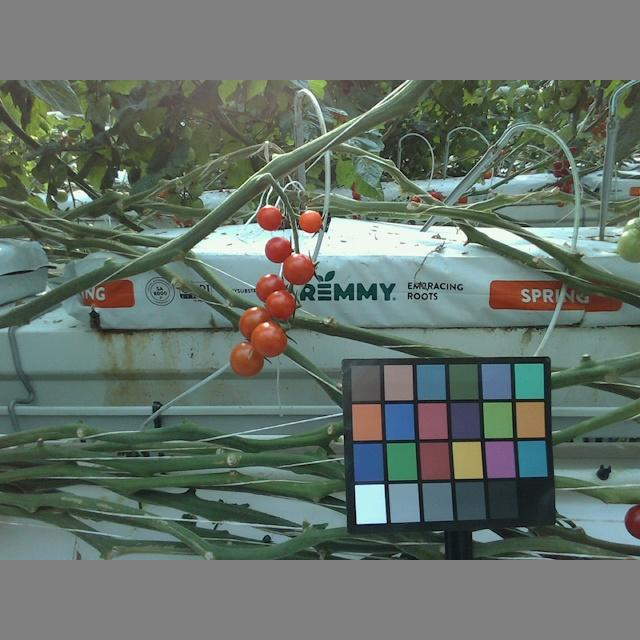green: (617, 227, 640, 267)
red: (250, 319, 287, 357), (238, 307, 275, 343), (231, 342, 266, 376), (284, 250, 315, 288), (264, 288, 296, 323), (256, 274, 287, 305), (265, 234, 293, 264), (257, 205, 284, 230), (297, 207, 322, 234)
